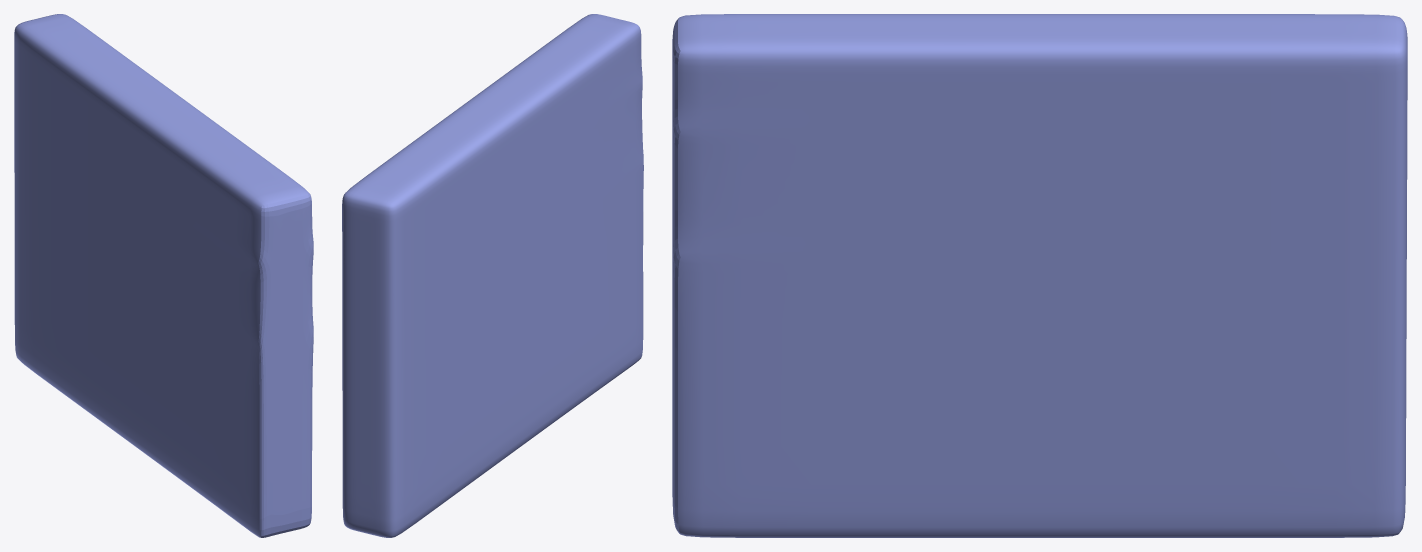
File: Wall03.fbx
The picture shows the model from 3 angles, left to right: view 1: azimuth 30°, elevation 25°; view 2: azimuth 150°, elevation 25°; view 3: azimuth 270°, elevation 25°; orthographic projection. The views are drawn at different scales.
Parts seen in each view (by area): view 1: ndp.001; view 2: ndp.001; view 3: ndp.001.
Boxes of the visible parts, x1=… form: ndp.001: x1=14, y1=14, x2=313, y2=537; ndp.001: x1=342, y1=14, x2=643, y2=537; ndp.001: x1=672, y1=14, x2=1407, y2=537.
Size of the model in its own units: 39.76 by 226 by 304.
